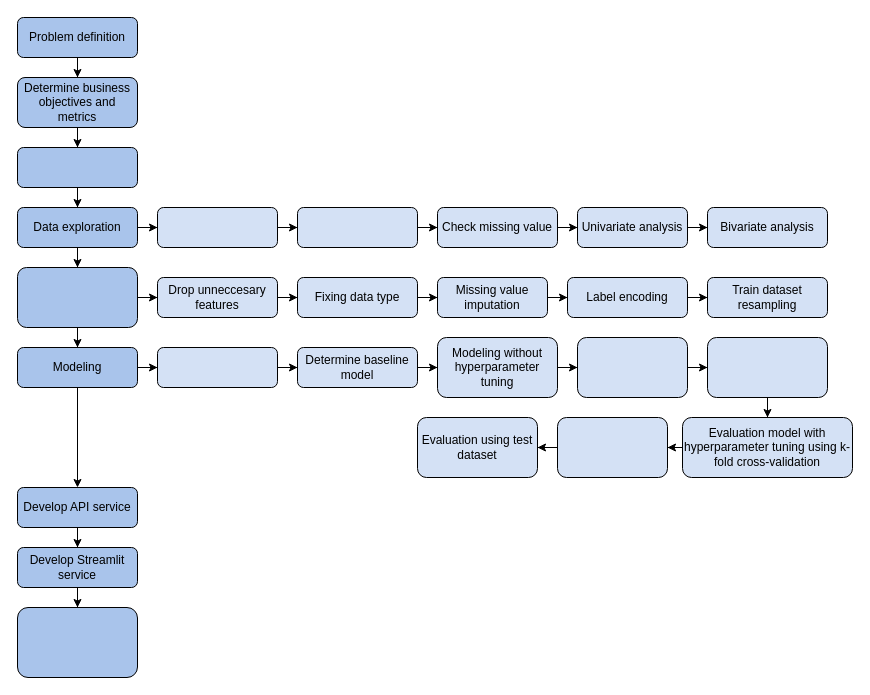
The diagram is 870 pixels wide and 695 high, and some of its shapes have lost their labels. Each missing label, with the box of its shape:
Build container to package API and Streamlit using Docker: (16, 606, 138, 678)
Check data types: (296, 206, 418, 248)
Collecting data: (16, 146, 138, 188)
Data pre-processing and Feature engineering: (16, 266, 138, 328)
Determine best model: (556, 416, 668, 478)
Determine machine learning metrics: (156, 346, 278, 388)
Evaluation model without hyperparameter tuning: (576, 336, 688, 398)
Modeling with hyperparameter tuning: (706, 336, 828, 398)
Train-test and input-output data splitting: (156, 206, 278, 248)
